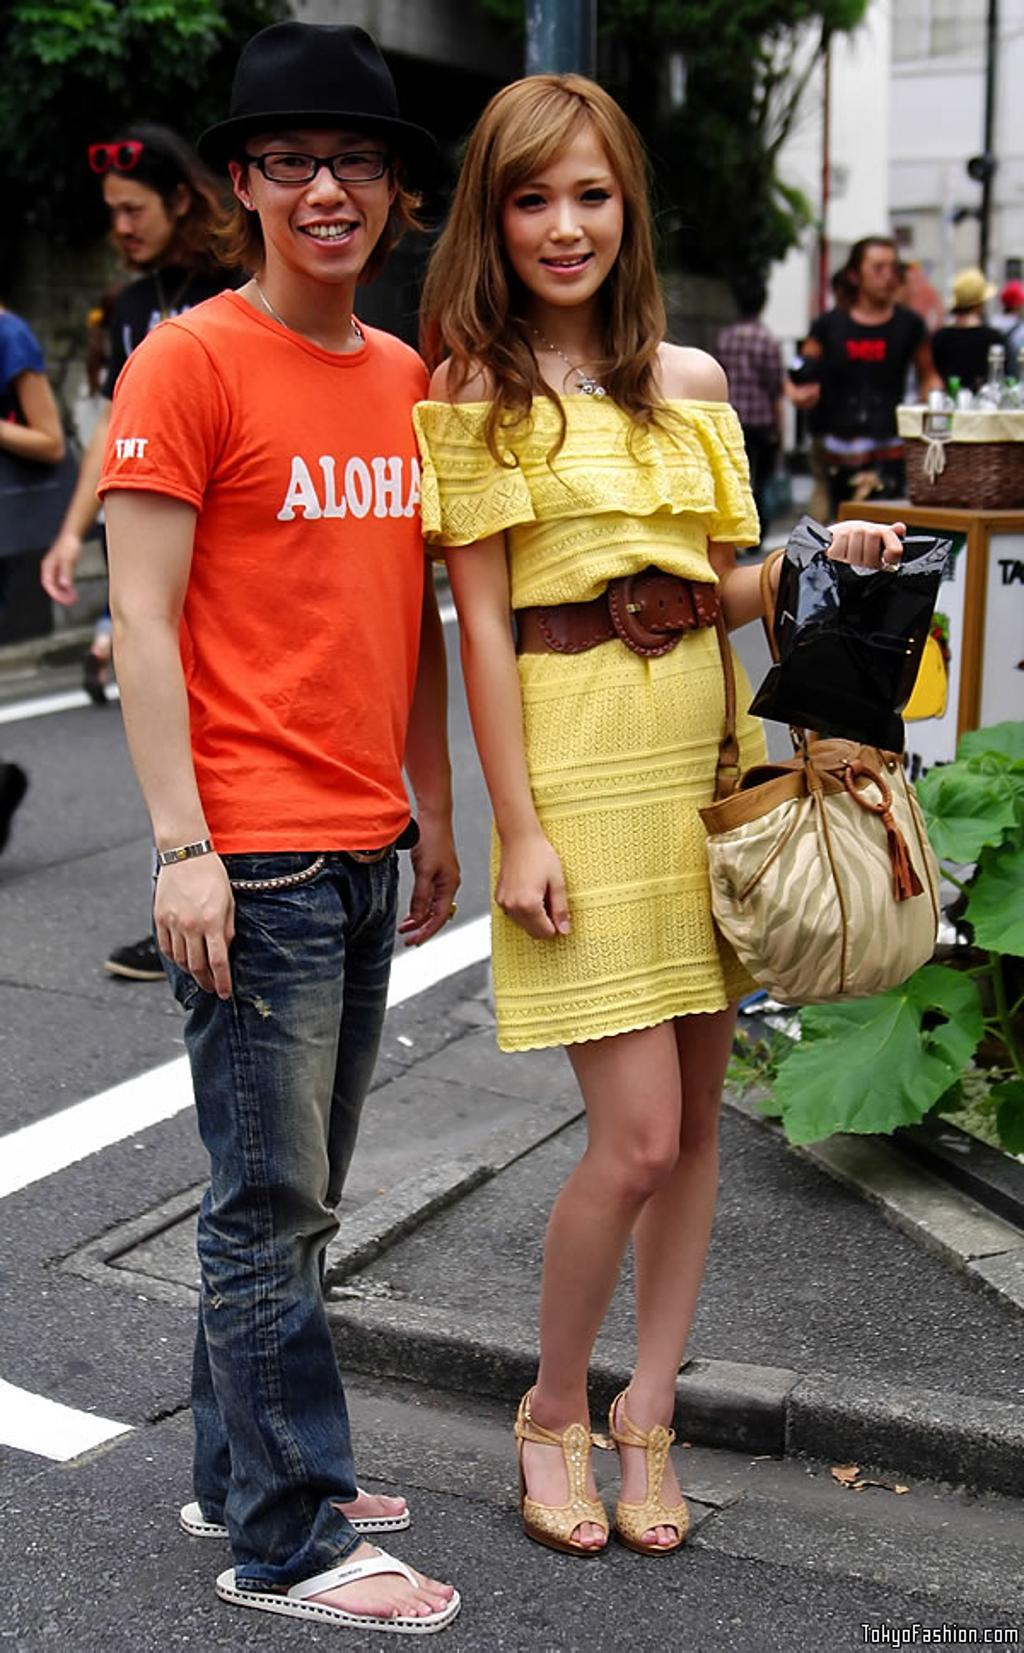face: (248, 113, 388, 281), (499, 140, 624, 304), (106, 185, 172, 261), (862, 251, 897, 299)
